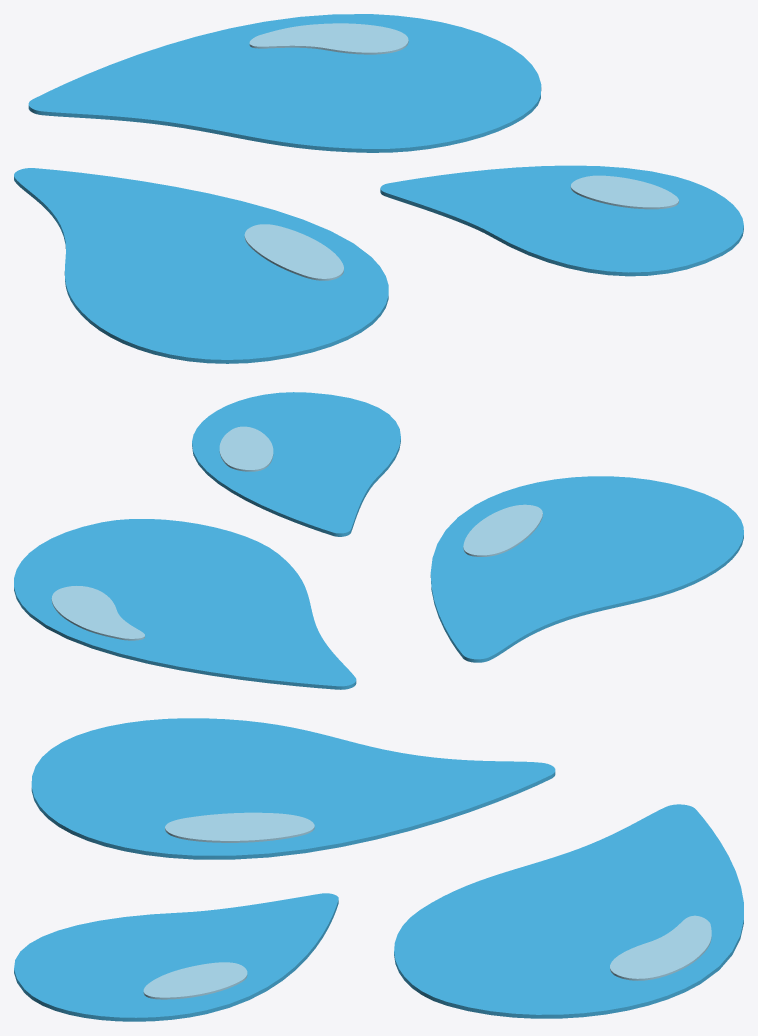
File: emoji_u1f4a6.glb
3 views of the same model, one above another, from view 1: azimuth 30°, elevation 25°; view 2: azimuth 150°, elevation 25°; view 3: azimuth 270°, elevation 25° (orthographic). The views are drawn at different scales.
Visible parts, largest first — view 1: emoji_u1f4a6; view 2: emoji_u1f4a6; view 3: emoji_u1f4a6.
Part boxes in pixels (x1,y1,x2,y2): emoji_u1f4a6: [14, 14, 743, 363]; emoji_u1f4a6: [14, 392, 743, 689]; emoji_u1f4a6: [14, 718, 743, 1021].
Size of the model in its own units: 0.0327 by 0.0004 by 0.0336.
